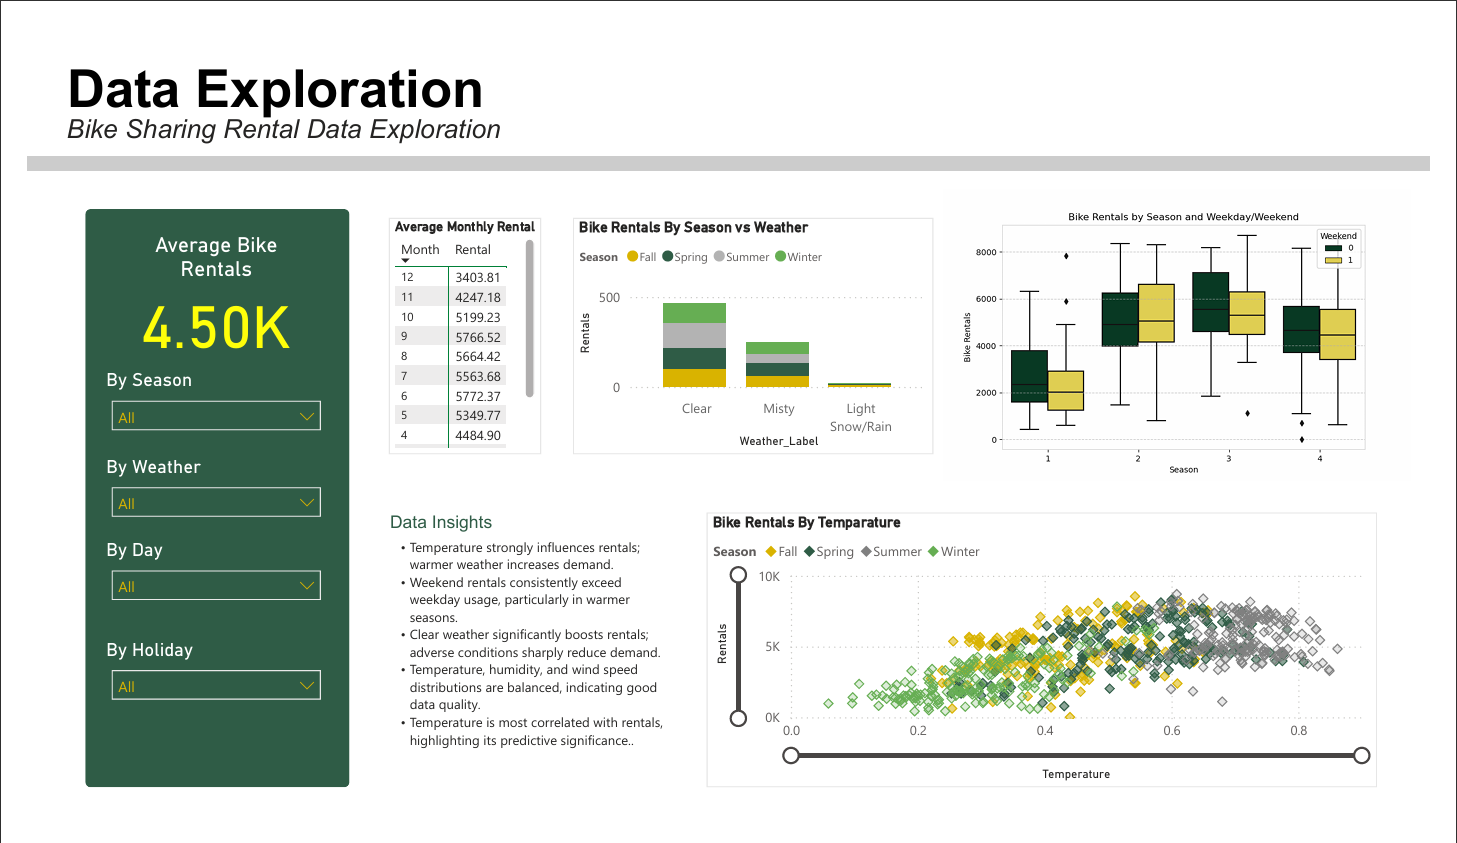

The dashboard page shown, as its layout file describes it:
{"tool":"powerbi","page":{"name":"EDA","canvas":[1280,720],"ordinal":0},"visuals":[{"type":"pythonVisual","fields":{"Values":["bike_dataset_clean.cnt","bike_dataset_clean.season","bike_dataset_clean.is_weekend"]},"box":[835.6,119.8,427.4,323.7],"z":0},{"type":"shape","box":[53,166,240.7,527.5],"z":1000},{"type":"shape","box":[0,117.5,1280.4,13.4],"z":3000},{"type":"textbox","box":[31,24,933,69],"z":4000},{"type":"textbox","box":[31.1,74.4,608.9,42.2],"z":5000},{"type":"pivotTable","title":"Average Monthly Rental","fields":{"Rows":["bike_dataset_clean.mnth"],"Values":["Avg(bike_dataset_clean.cnt)"]},"box":[330.4,173.9,138.7,216.5],"z":6000},{"type":"columnChart","title":"Bike Rentals By Season vs Weather","fields":{"Y":["CountNonNull(bike_dataset_clean.cnt)"],"Category":["bike_dataset_clean.Weather_Label"],"Series":["bike_dataset_clean.Season_Label"]},"box":[498.4,173.9,328.2,216.5],"z":7000},{"type":"scatterChart","title":"Bike Rentals By Temparature","fields":{"X":["bike_dataset_clean.temp"],"Y":["bike_dataset_clean.cnt"],"Series":["bike_dataset_clean.Season_Label"]},"box":[620.2,443.4,612.1,250.5],"z":8000},{"type":"slicer","title":"By Season","fields":{"Values":["bike_dataset_clean.Season_Label"]},"box":[66.8,312.4,211.2,85.5],"z":9000},{"type":"slicer","title":"By Weather","fields":{"Values":["bike_dataset_clean.Weather_Label"]},"box":[66.8,391,211.2,84.5],"z":10000},{"type":"slicer","title":"By Day","fields":{"Values":["bike_dataset_clean.weekday_label"]},"box":[66.8,466.6,211.2,84.5],"z":11000},{"type":"slicer","title":"By Holiday","fields":{"Values":["bike_dataset_clean.Holiday_Label"]},"box":[66.8,558,211.2,83.5],"z":12000},{"type":"textbox","title":"Data Insights","box":[326.3,443.4,265.7,250.5],"z":13000},{"type":"card","title":"Average Bike Rentals","fields":{"Values":["bike_dataset_clean.Average Bike Rentals"]},"box":[83.5,186.6,178.8,114.9],"z":14000}]}

Visuals, with their boxes in screenshot pixels (x1, y1, x2, y2), scaled from the page's 1280x720 canvas onto the 1457x843 screenshot:
pythonVisual - bike_dataset_clean.cnt x bike_dataset_clean.season: 951, 140, 1438, 519
shape: 60, 194, 334, 812
shape: 0, 138, 1456, 153
textbox: 35, 28, 1097, 109
textbox: 35, 87, 728, 137
"Average Monthly Rental" pivotTable: 376, 204, 534, 457
"Bike Rentals By Season vs Weather" columnChart: 567, 204, 941, 457
"Bike Rentals By Temparature" scatterChart: 706, 519, 1403, 812
"By Season" slicer: 76, 366, 316, 466
"By Weather" slicer: 76, 458, 316, 557
"By Day" slicer: 76, 546, 316, 645
"By Holiday" slicer: 76, 653, 316, 751
"Data Insights" textbox: 371, 519, 674, 812
"Average Bike Rentals" card: 95, 218, 299, 353
